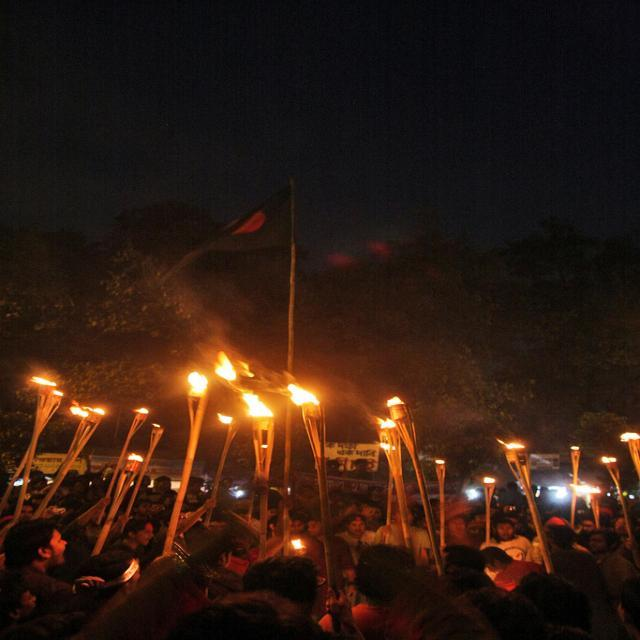Fire: (208, 362, 321, 436)
